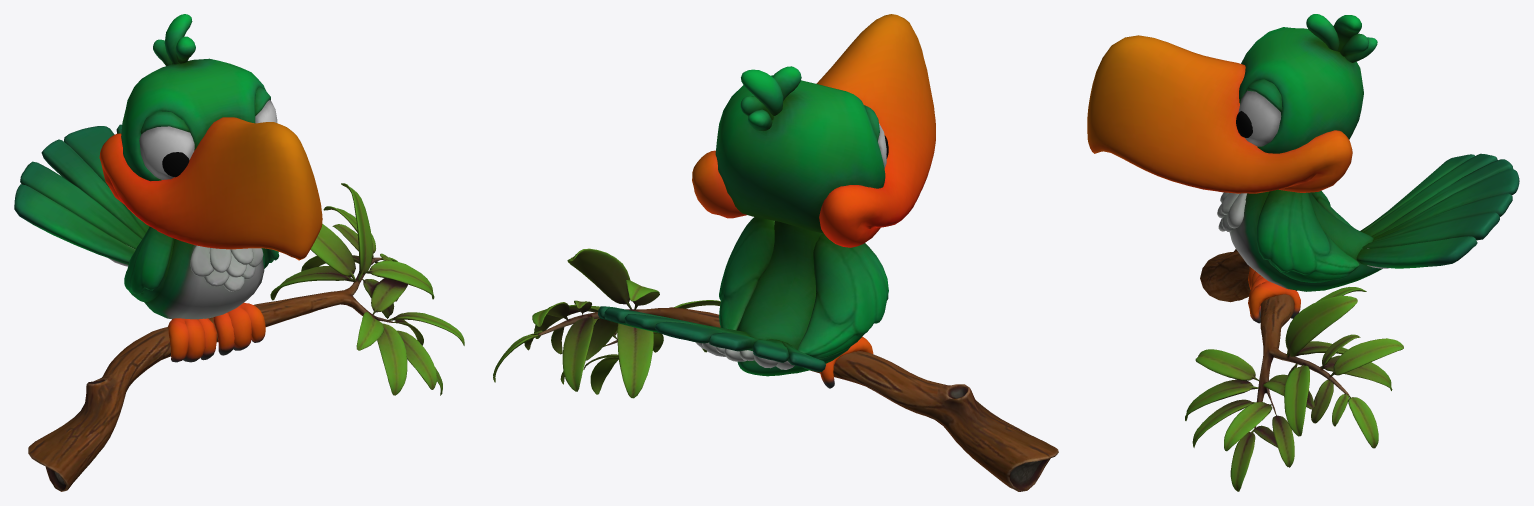
Rendered from bird-transformed.glb.
The picture shows the model from 3 angles, left to right: view 1: azimuth 30°, elevation 25°; view 2: azimuth 150°, elevation 25°; view 3: azimuth 270°, elevation 25°; orthographic projection. The views are drawn at different scales.
Visible parts, largest first — view 1: SM_Bird_MAT_Bird_0, SM_branch_MAT_branch_0; view 2: SM_Bird_MAT_Bird_0, SM_branch_MAT_branch_0; view 3: SM_Bird_MAT_Bird_0, SM_branch_MAT_branch_0.
Boxes of the visible parts, x1,y1,x2,y2 form: SM_Bird_MAT_Bird_0: (14, 14, 322, 362); SM_branch_MAT_branch_0: (28, 183, 464, 491); SM_Bird_MAT_Bird_0: (598, 14, 935, 388); SM_branch_MAT_branch_0: (493, 248, 1058, 491); SM_Bird_MAT_Bird_0: (1087, 14, 1519, 323); SM_branch_MAT_branch_0: (1185, 249, 1403, 491).
Bounding box in the file's own units: 6.62 × 5.56 × 5.73.
Materials: 2 (2 with a texture image).
